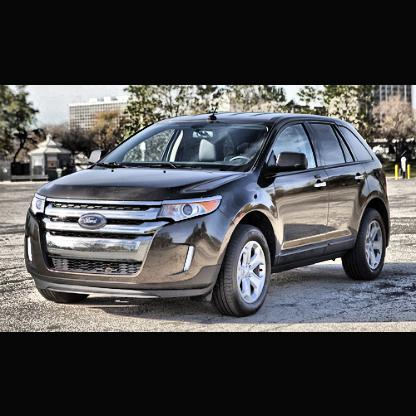Ford Edge SUV 2012: (24, 93, 393, 318)
